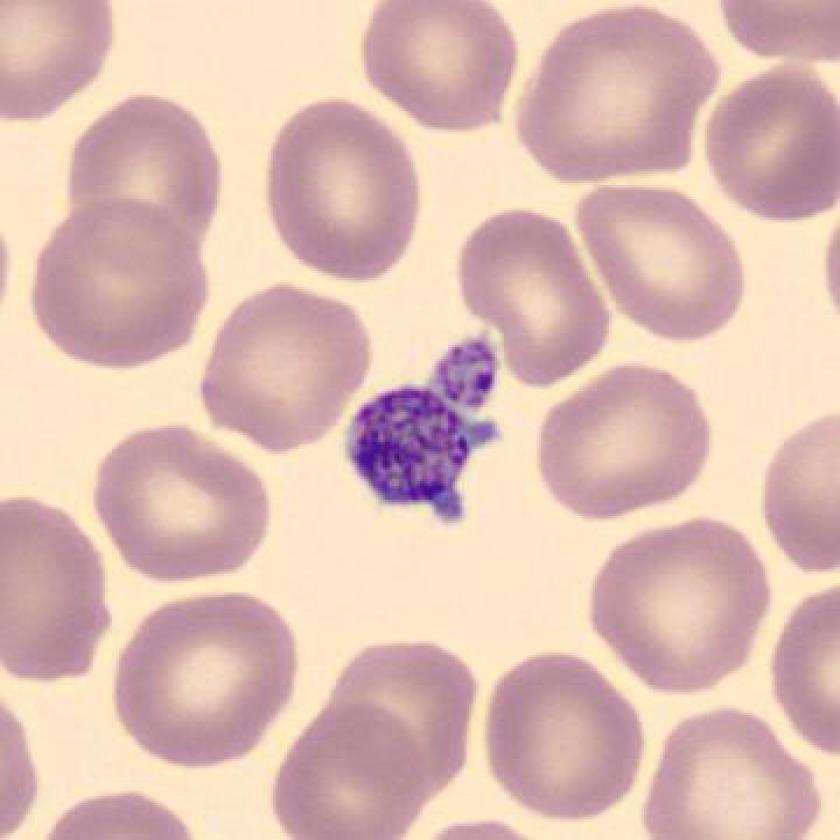platelets: (332, 378, 503, 526), (414, 327, 505, 420)
